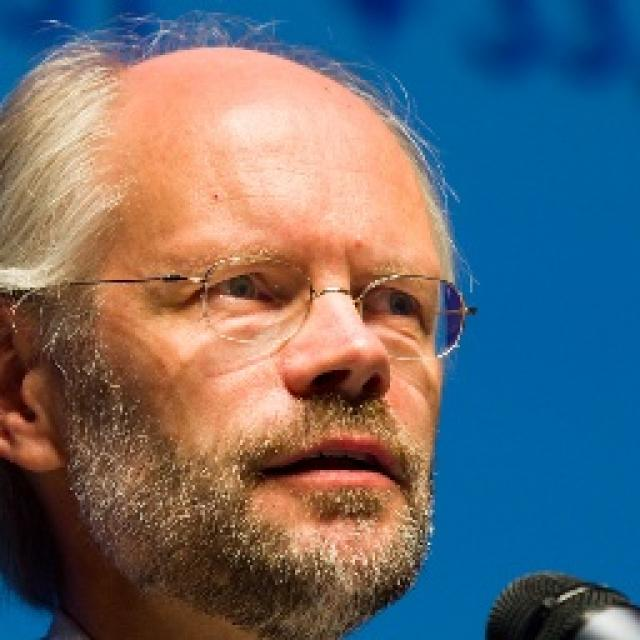earlobe: (0, 284, 64, 474)
